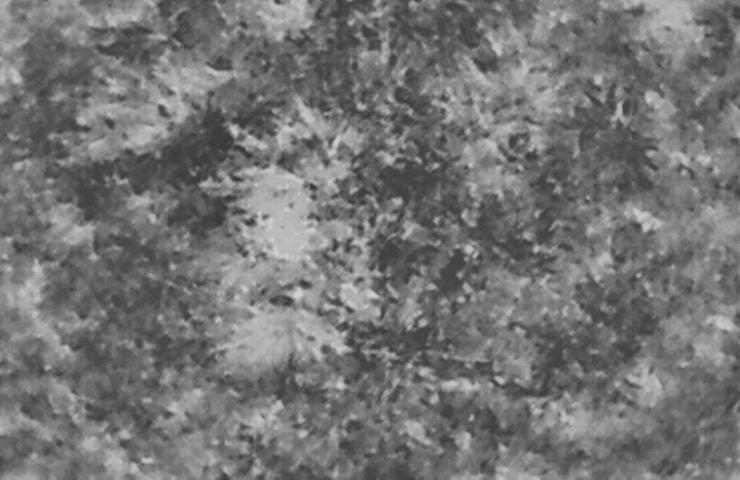landmines: (237, 163, 325, 267)
